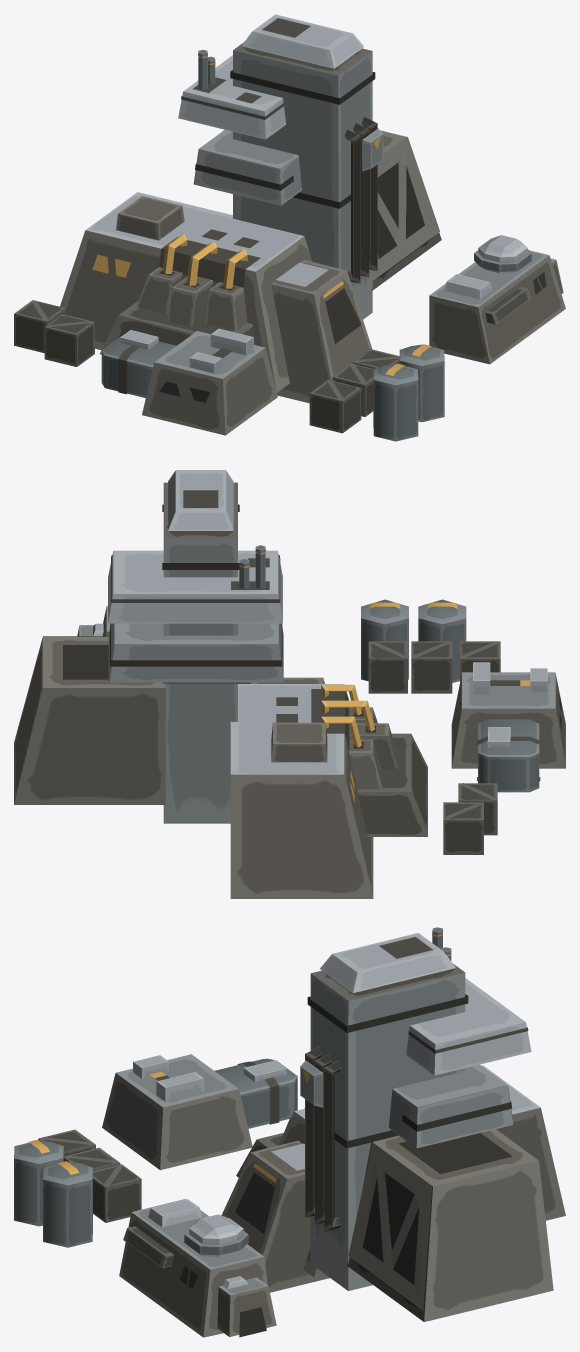
The model's file is barracks3.FBX.
3 views of the same model, one above another, from view 1: azimuth 30°, elevation 25°; view 2: azimuth 150°, elevation 25°; view 3: azimuth 270°, elevation 25° (orthographic). The views are drawn at different scales.
Visible parts, largest first — view 1: barracks3, b, c, a; view 2: barracks3, b, c; view 3: barracks3, b, c, a.
Boxes of the visible parts, bbox=[...] form: barracks3: bbox=[14, 42, 565, 441]; b: bbox=[193, 130, 301, 205]; c: bbox=[241, 14, 363, 68]; a: bbox=[362, 128, 383, 171]; barracks3: bbox=[14, 482, 565, 898]; b: bbox=[108, 623, 283, 682]; c: bbox=[168, 470, 233, 530]; barracks3: bbox=[14, 927, 565, 1337]; b: bbox=[389, 1064, 513, 1148]; c: bbox=[320, 933, 455, 992]; a: bbox=[300, 1060, 323, 1107].
Size of the model in its own units: 161 by 101 by 149.
1 material, 1 textured.
